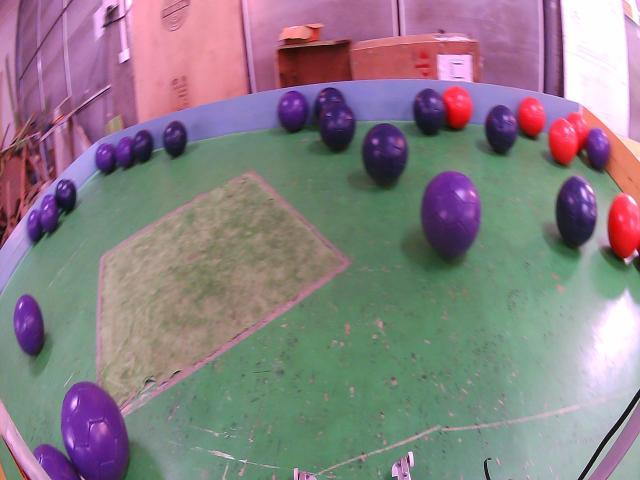jambhalya: (61, 382, 129, 480), (421, 172, 481, 258), (14, 295, 44, 355), (34, 443, 80, 480), (278, 90, 309, 132), (585, 127, 610, 170), (95, 143, 116, 173), (115, 137, 134, 168), (40, 202, 59, 233), (28, 210, 42, 242), (41, 195, 56, 209)
kaalyya: (556, 175, 598, 247), (362, 123, 408, 185), (319, 102, 355, 152), (485, 105, 518, 153), (414, 88, 446, 135), (314, 87, 344, 118), (164, 122, 186, 157), (132, 130, 154, 162), (55, 180, 76, 212)
